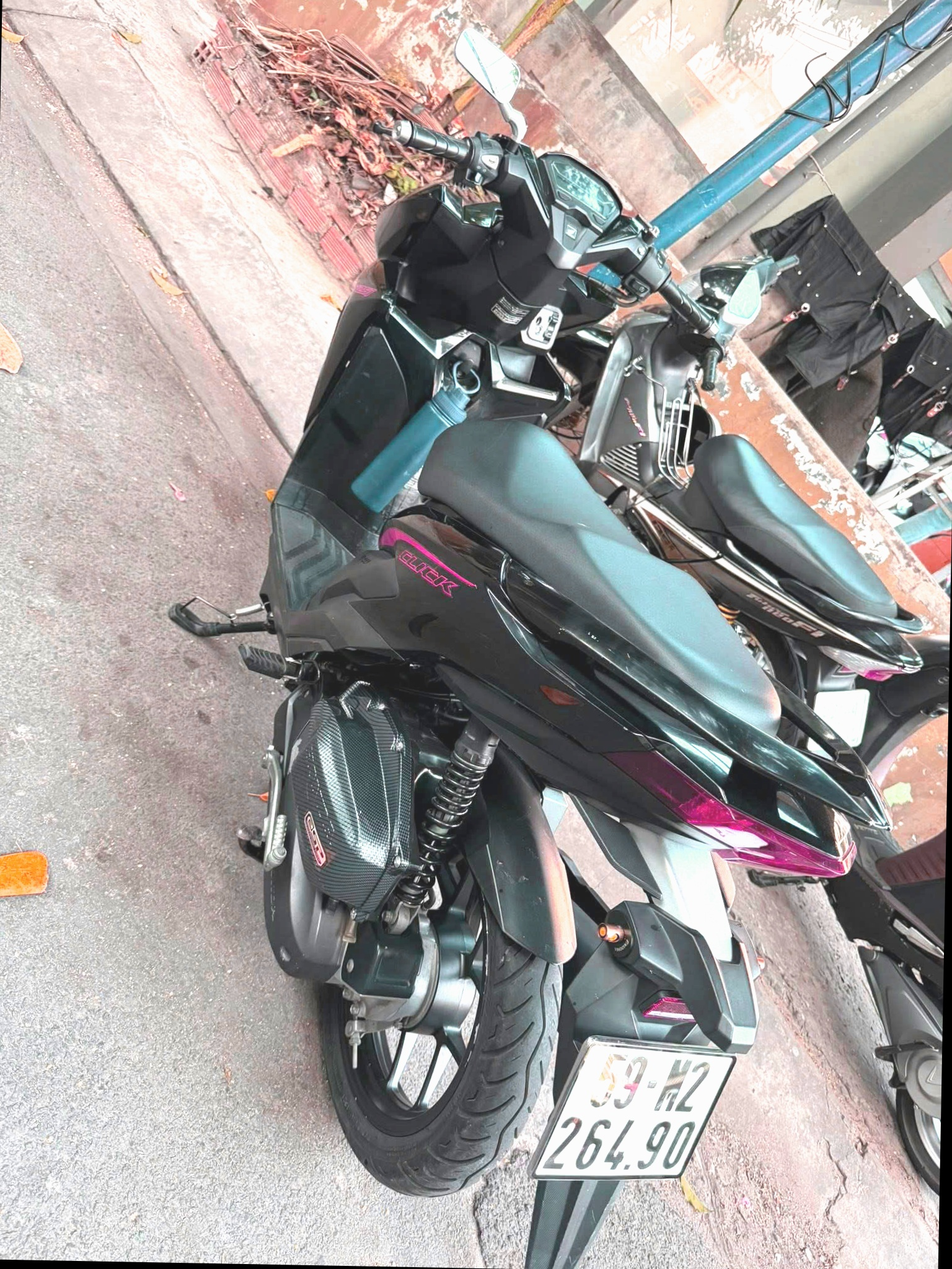Bien-so: (562, 1019, 761, 1168), (850, 700, 905, 758)
